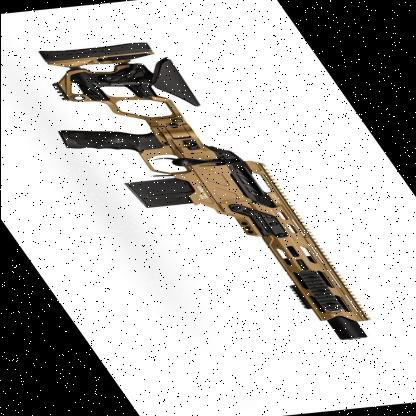rifle: (0, 34, 400, 356)
